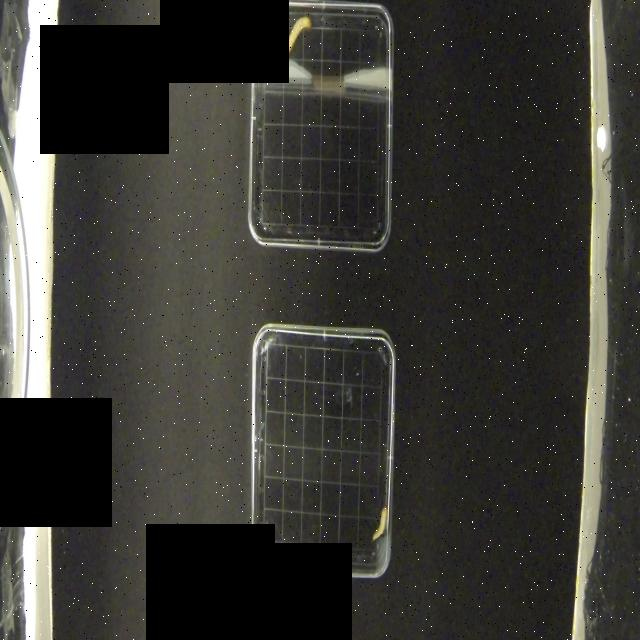larva: (284, 15, 312, 56), (371, 504, 389, 544)
